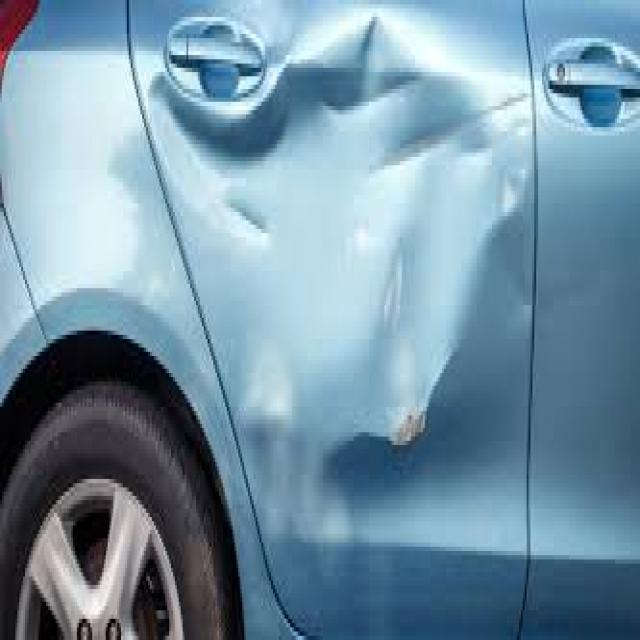car damage: (147, 70, 245, 218), (321, 13, 419, 131), (242, 353, 298, 522), (321, 433, 398, 545), (281, 63, 330, 181), (373, 239, 405, 339), (499, 159, 527, 219), (456, 123, 491, 168)
